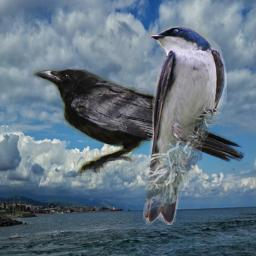Crow: (33, 67, 246, 176)
Swallow: (140, 24, 227, 225)
